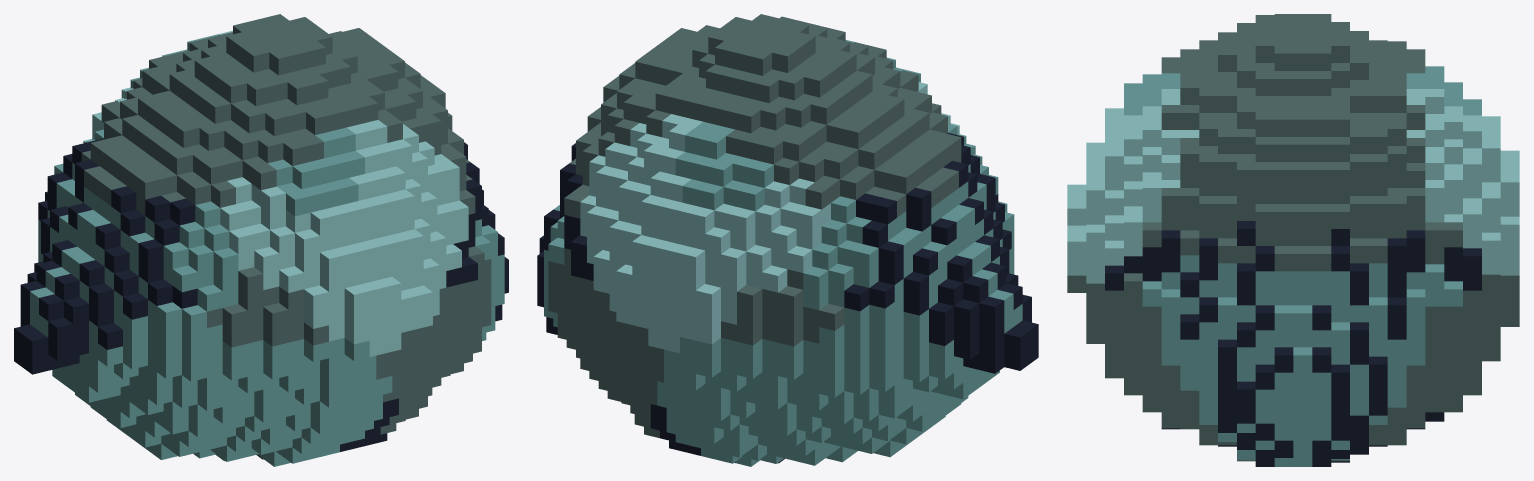
File: Rock1.glb
3 renders of one model, left to right at view 1: azimuth 30°, elevation 25°; view 2: azimuth 150°, elevation 25°; view 3: azimuth 270°, elevation 25°, orthographic. The views are drawn at different scales.
Visible parts, largest first — view 1: q0; view 2: q0; view 3: q0.
Boxes of the visible parts, box(x1,y1,x2,y2) form: q0: box(14, 14, 508, 466); q0: box(537, 14, 1038, 466); q0: box(1067, 14, 1519, 466).
Bounding box in the file's own units: 29 × 24 × 24.
Materials: 1 (1 with a texture image).
